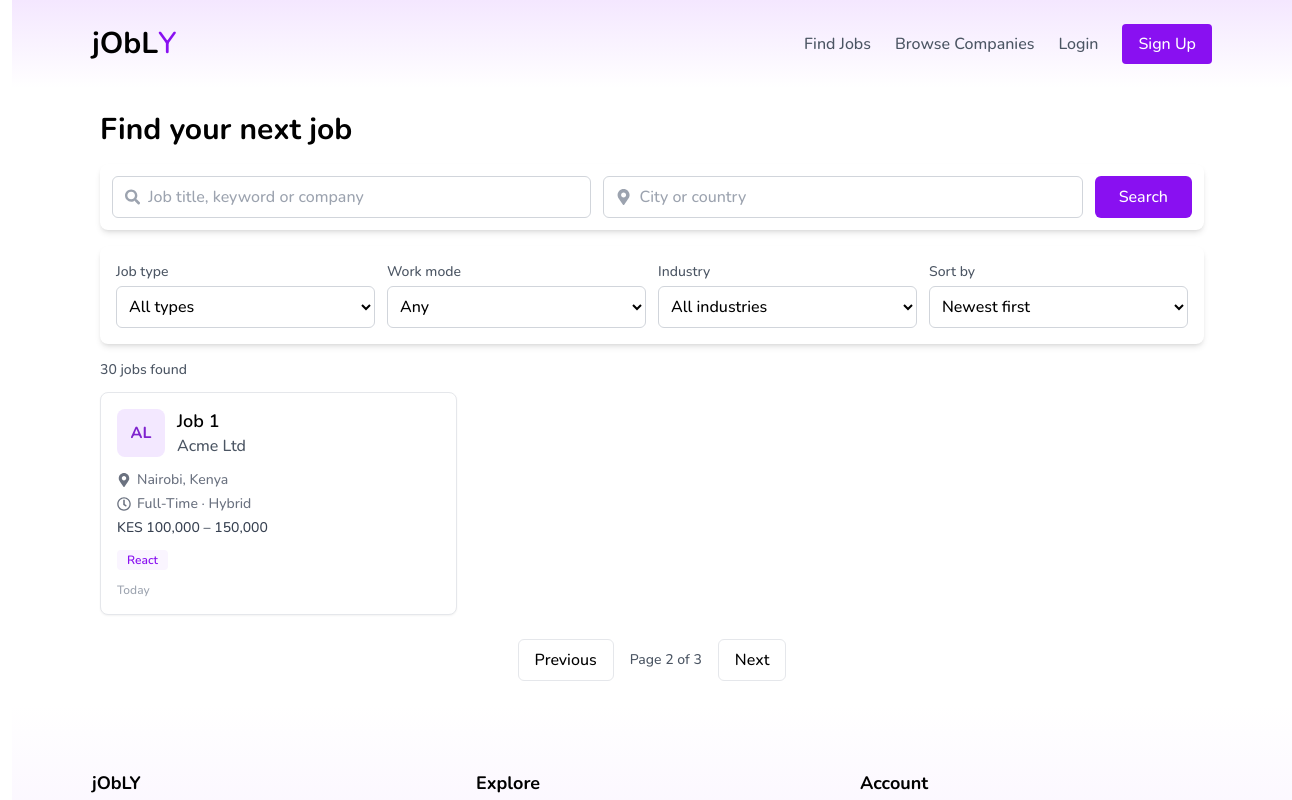
Test: JobSearchPage › changing a filter updates the URL and resets to page 1
The image size is (1292, 800).
Expected: the heading "Job 1" is shown, [177,409,220,433]
Select "Full-Time" in the dropdown labelled "Job type" at (246, 307), box [116,286,375,328]
(page scrolled)
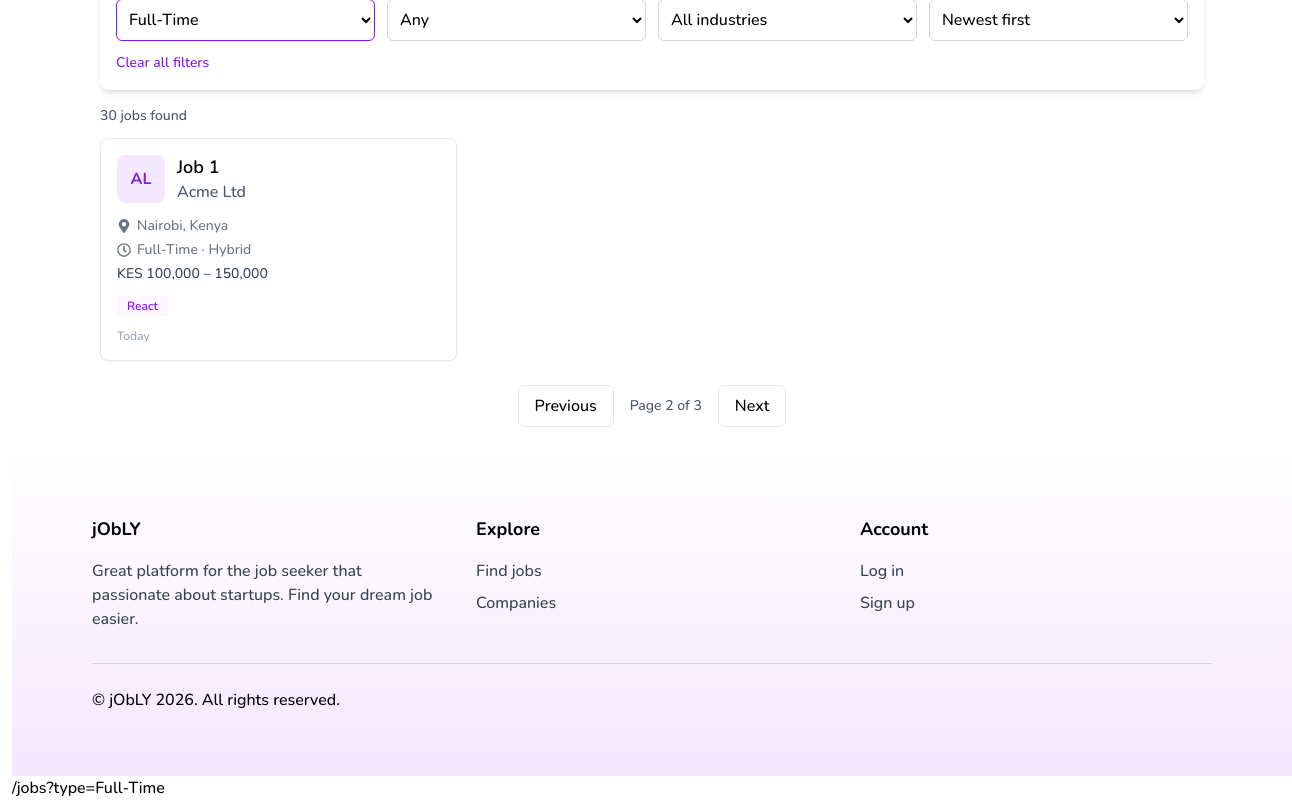
Result: the text with test id "loc" reads "/jobs?type=Full-Time" at [12,777,165,799]
